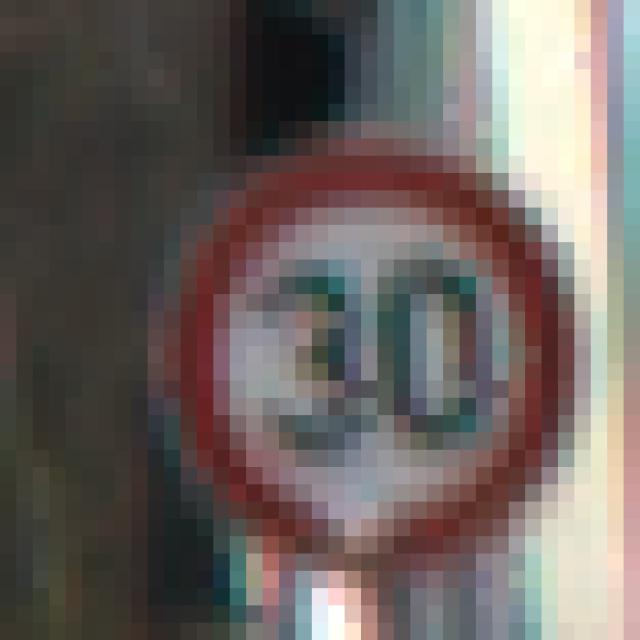Speed Limit -30-: (90, 78, 550, 545)
